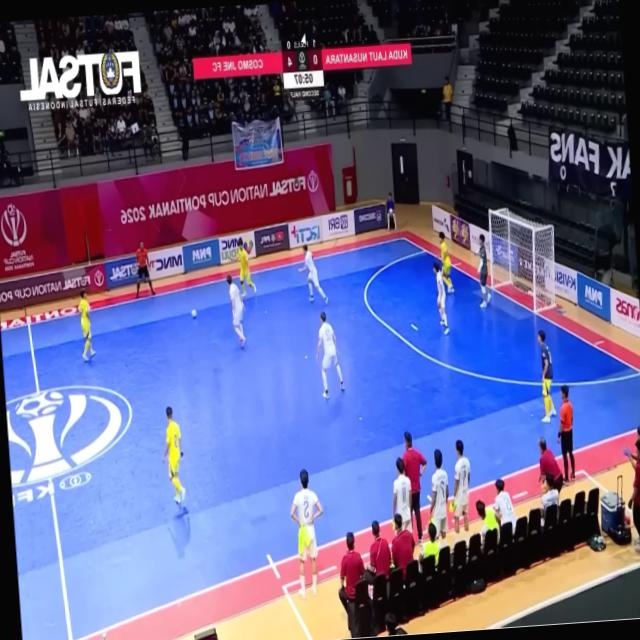keeper: (477, 234, 489, 308)
official: (402, 432, 426, 543), (338, 533, 363, 636), (537, 437, 562, 493), (627, 439, 639, 553), (135, 242, 154, 297)
players: (290, 469, 321, 597), (315, 312, 343, 399), (163, 406, 184, 504), (452, 440, 470, 539), (537, 330, 555, 423), (298, 245, 326, 303), (430, 450, 447, 539), (392, 458, 411, 532), (226, 275, 245, 347), (493, 478, 515, 531), (78, 290, 94, 361), (433, 262, 448, 335), (135, 242, 154, 297), (237, 238, 255, 296), (439, 232, 453, 293), (385, 193, 395, 230)
referee: (557, 385, 574, 483), (135, 242, 154, 297)
